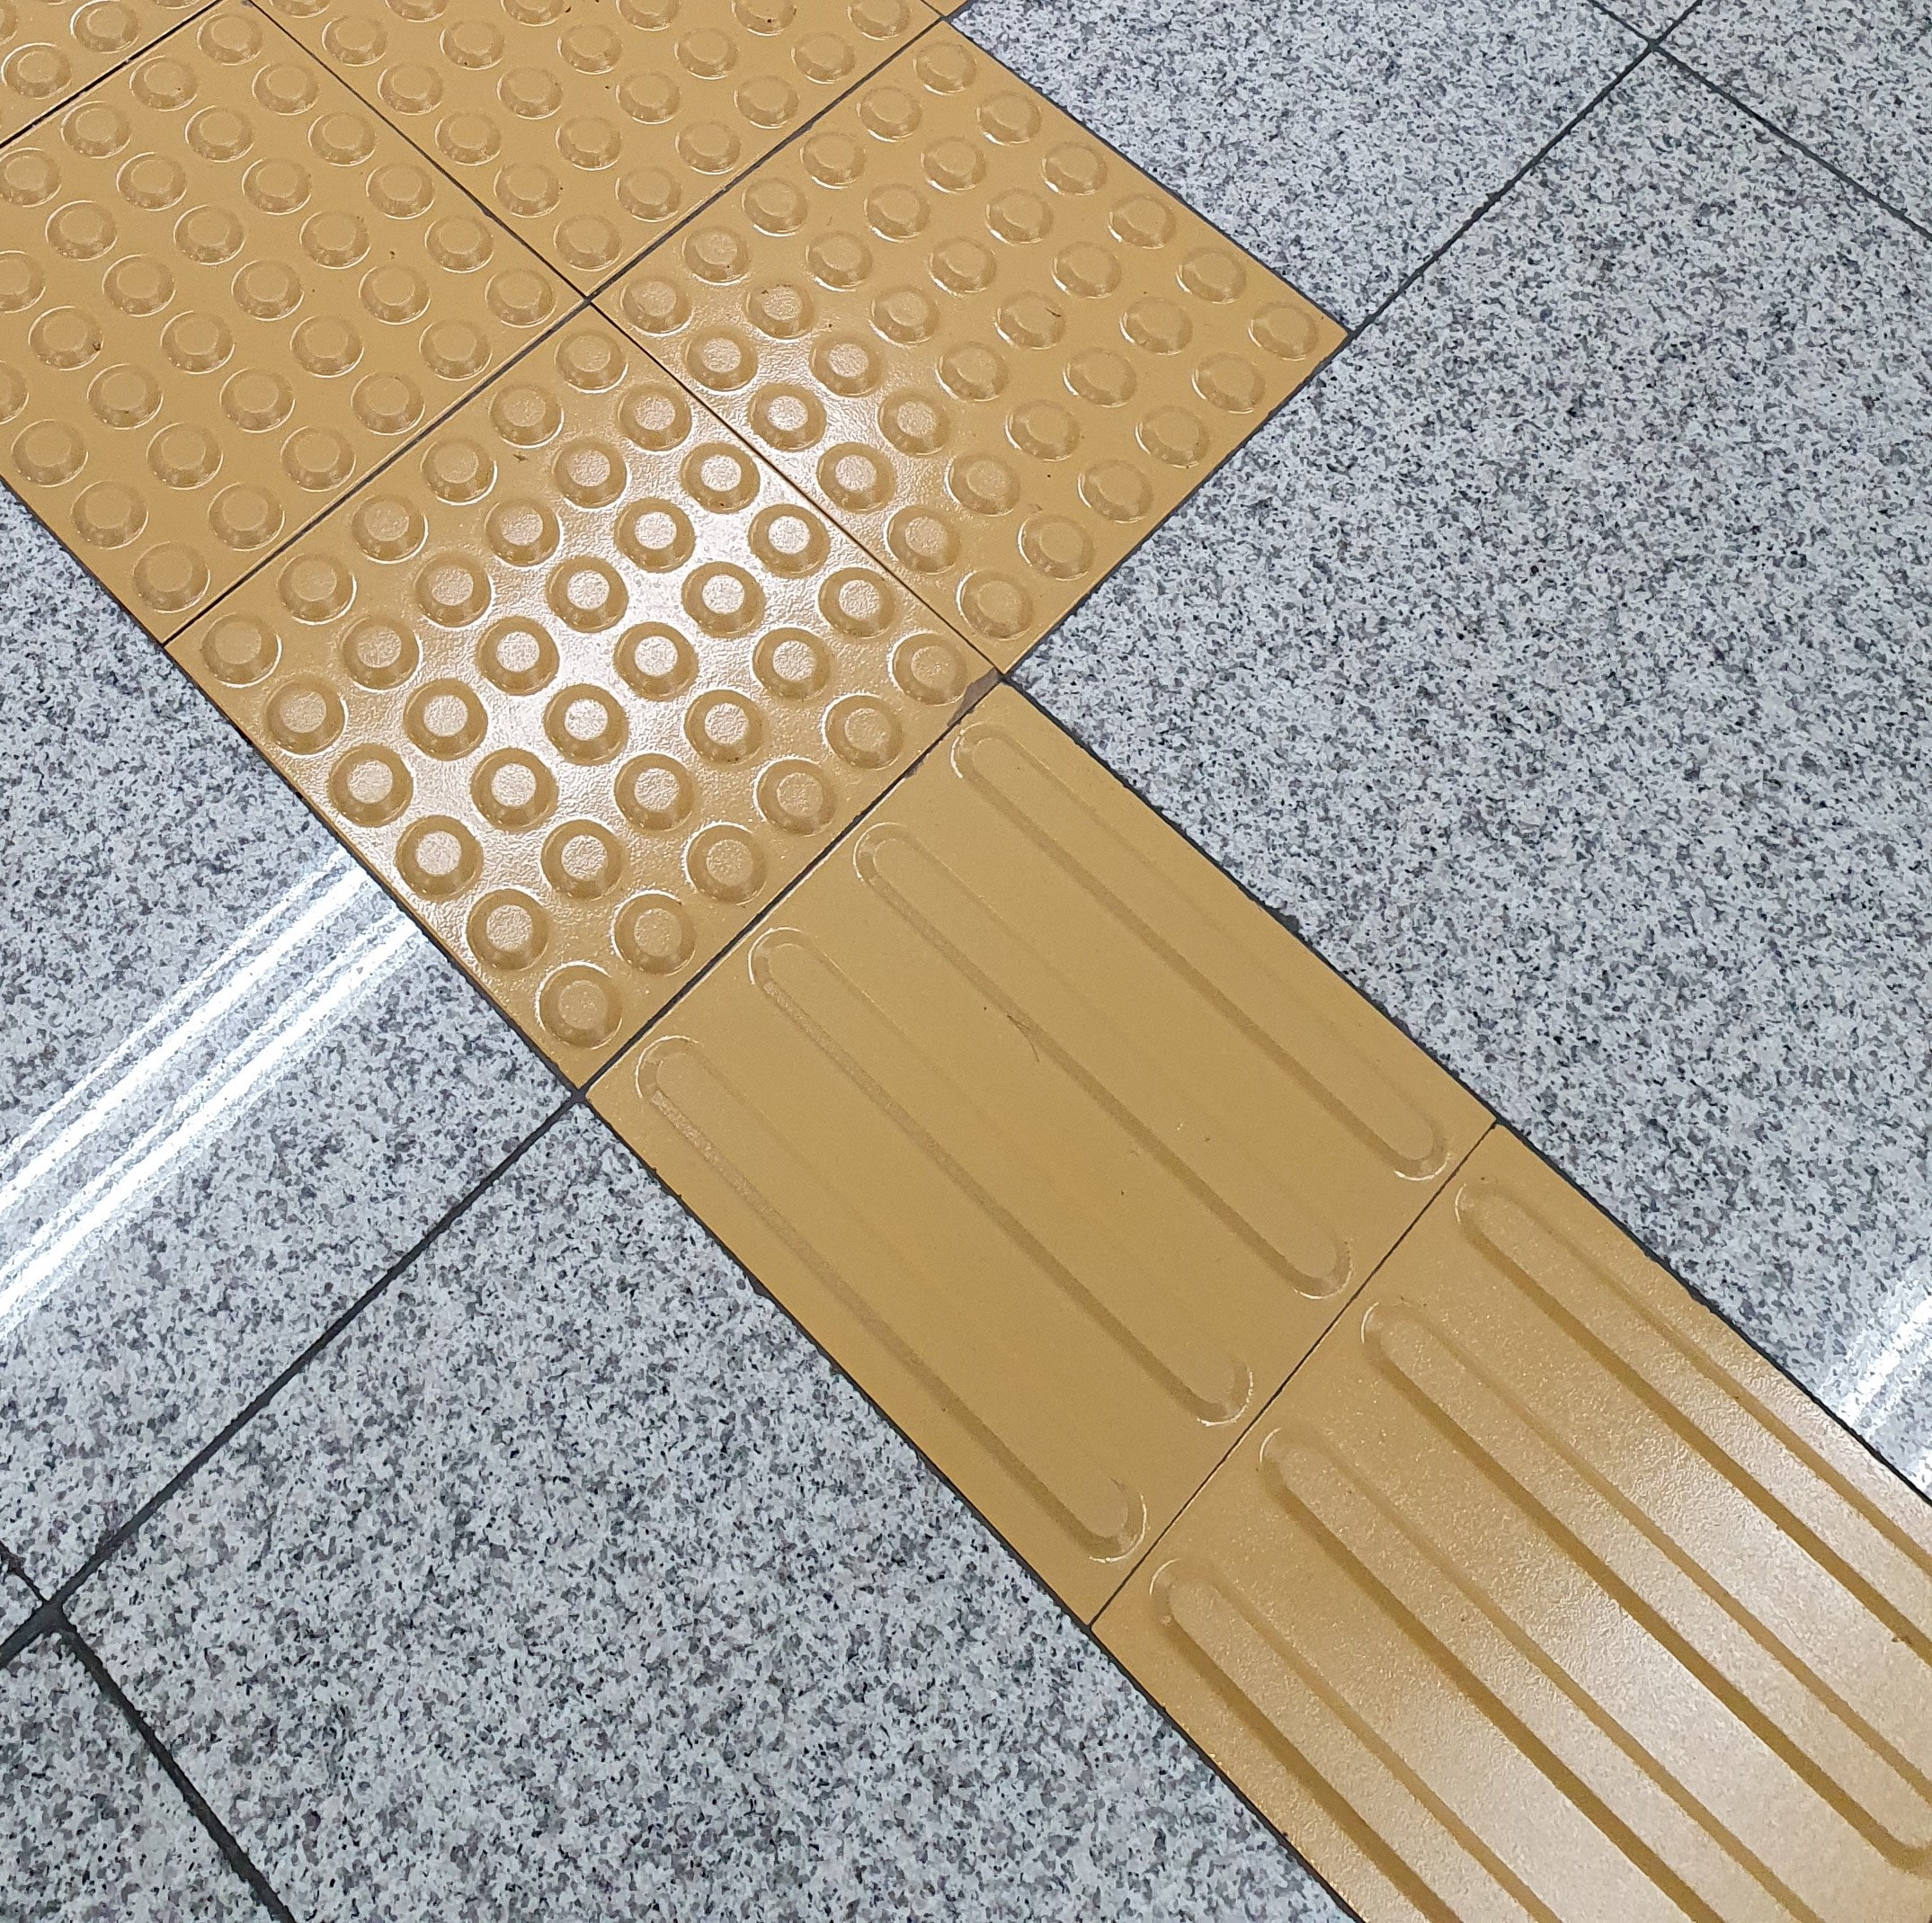guideBlock: (1122, 1153, 1932, 1923), (682, 801, 1474, 1553)
warningBlock: (192, 444, 933, 984), (660, 85, 1342, 592), (2, 118, 542, 521), (298, 12, 905, 217)
